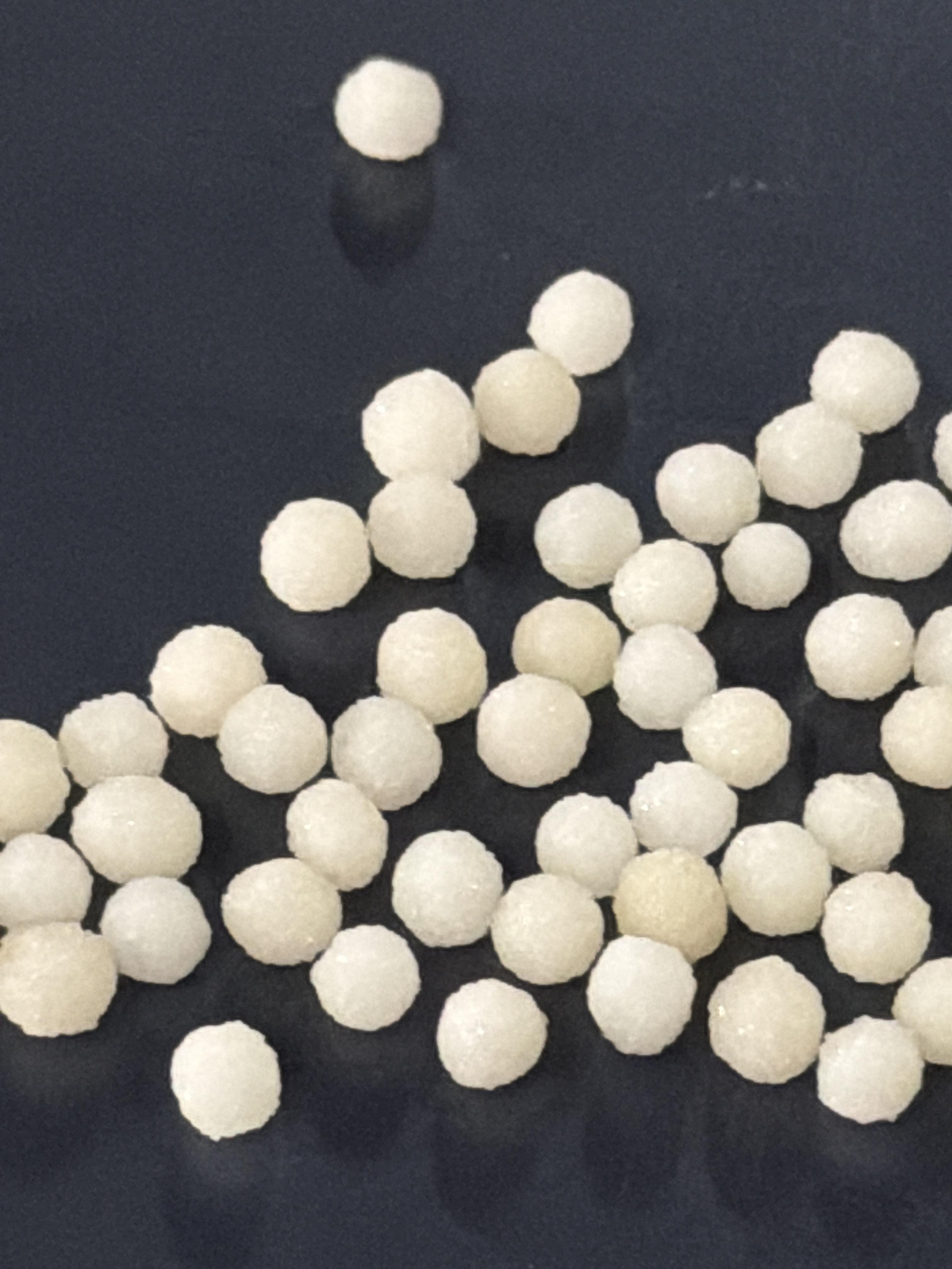pill: (708, 956, 825, 1084), (71, 776, 201, 884), (0, 922, 117, 1037), (587, 935, 696, 1055), (363, 369, 479, 481), (392, 830, 503, 947), (171, 1021, 280, 1140), (221, 858, 342, 965), (477, 674, 591, 787), (613, 849, 727, 962), (150, 626, 266, 737), (490, 873, 604, 985), (377, 608, 487, 724), (721, 821, 831, 936), (331, 697, 442, 810), (260, 498, 371, 611), (821, 871, 931, 984), (436, 979, 547, 1090), (217, 684, 327, 794), (100, 877, 211, 984), (805, 594, 915, 700), (310, 925, 420, 1031), (473, 349, 581, 456), (368, 472, 476, 579), (817, 1016, 923, 1124), (534, 483, 641, 589), (756, 402, 862, 509), (286, 779, 388, 890), (840, 480, 952, 581), (810, 330, 919, 433), (528, 270, 633, 376), (613, 624, 717, 730), (335, 58, 442, 161), (682, 688, 790, 789), (655, 443, 760, 545), (512, 598, 621, 696), (536, 793, 637, 898), (58, 692, 167, 787), (630, 762, 738, 857), (804, 773, 904, 874), (610, 539, 717, 632), (0, 834, 92, 928), (0, 719, 70, 842), (721, 522, 811, 610), (881, 685, 952, 788), (892, 957, 952, 1065), (913, 607, 952, 685), (932, 414, 952, 488)
